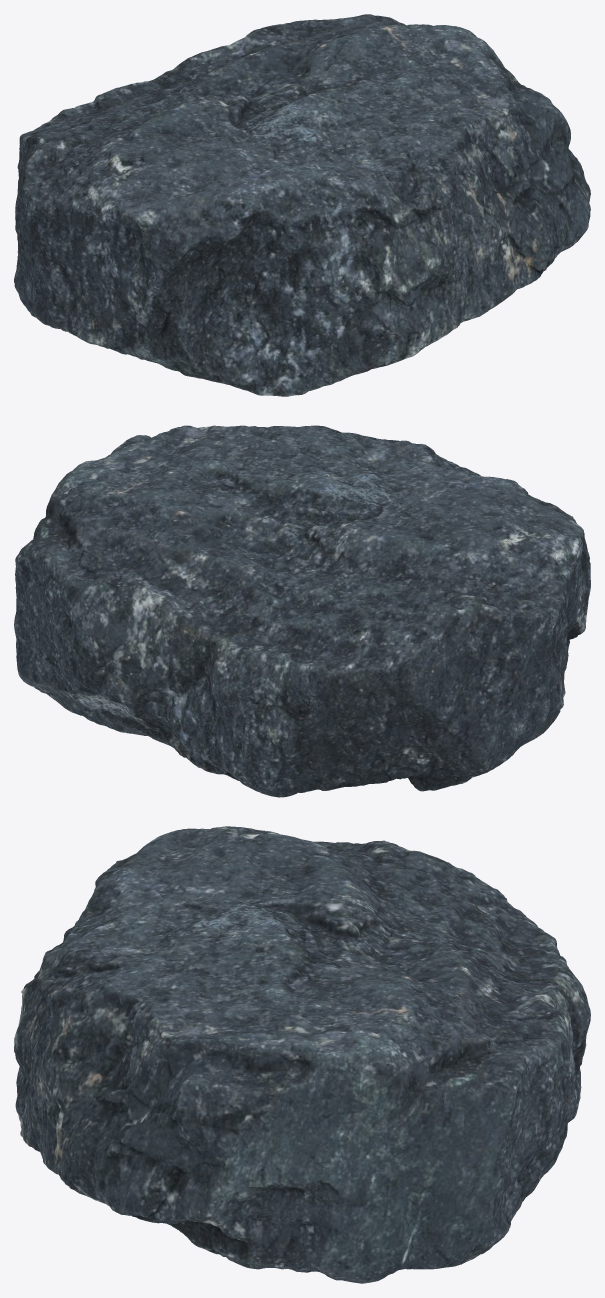
File: amphibolite.glb
The picture shows the model from 3 angles, top to bottom: view 1: azimuth 30°, elevation 25°; view 2: azimuth 150°, elevation 25°; view 3: azimuth 270°, elevation 25°; orthographic projection. The views are drawn at different scales.
Parts seen in each view (by area): view 1: Object_2; view 2: Object_2; view 3: Object_2.
Part boxes in pixels (x1=…): Object_2: x1=14, y1=14, x2=590, y2=396; Object_2: x1=14, y1=425, x2=590, y2=797; Object_2: x1=14, y1=826, x2=590, y2=1283.
Bounding box in the file's own units: 0.11 × 0.0484 × 0.092.
Materials: 1 (1 with a texture image).
